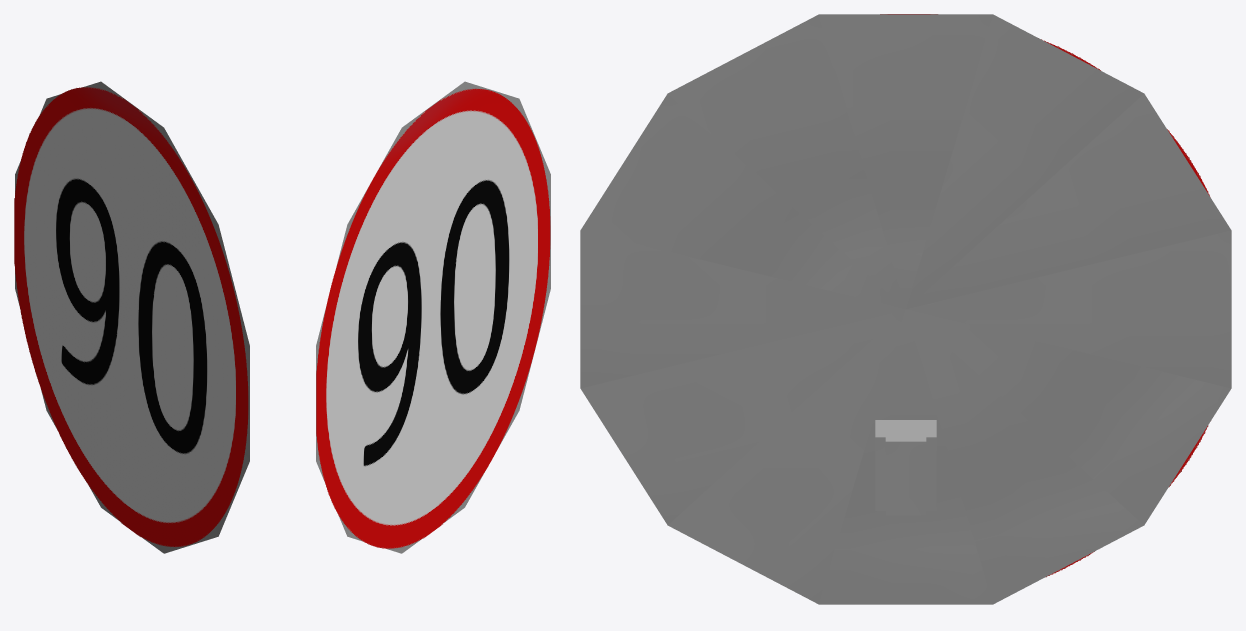
Rendered from speed_90_large.obj.
3 renders of one model, left to right at view 1: azimuth 30°, elevation 25°; view 2: azimuth 150°, elevation 25°; view 3: azimuth 270°, elevation 25°, orthographic. The views are drawn at different scales.
Visible parts, largest first — view 1: cube, circle; view 2: cube, circle; view 3: circle, cube.
Boxes of the visible parts, x1=… form: cube: x1=14, y1=87, x2=248, y2=547; circle: x1=15, y1=81, x2=249, y2=553; cube: x1=316, y1=88, x2=550, y2=548; circle: x1=316, y1=81, x2=550, y2=553; circle: x1=580, y1=14, x2=1231, y2=604; cube: x1=875, y1=14, x2=1209, y2=577.
Bounding box in the file's own units: 0.0797 × 1 × 1.
2 materials, 2 textured.
